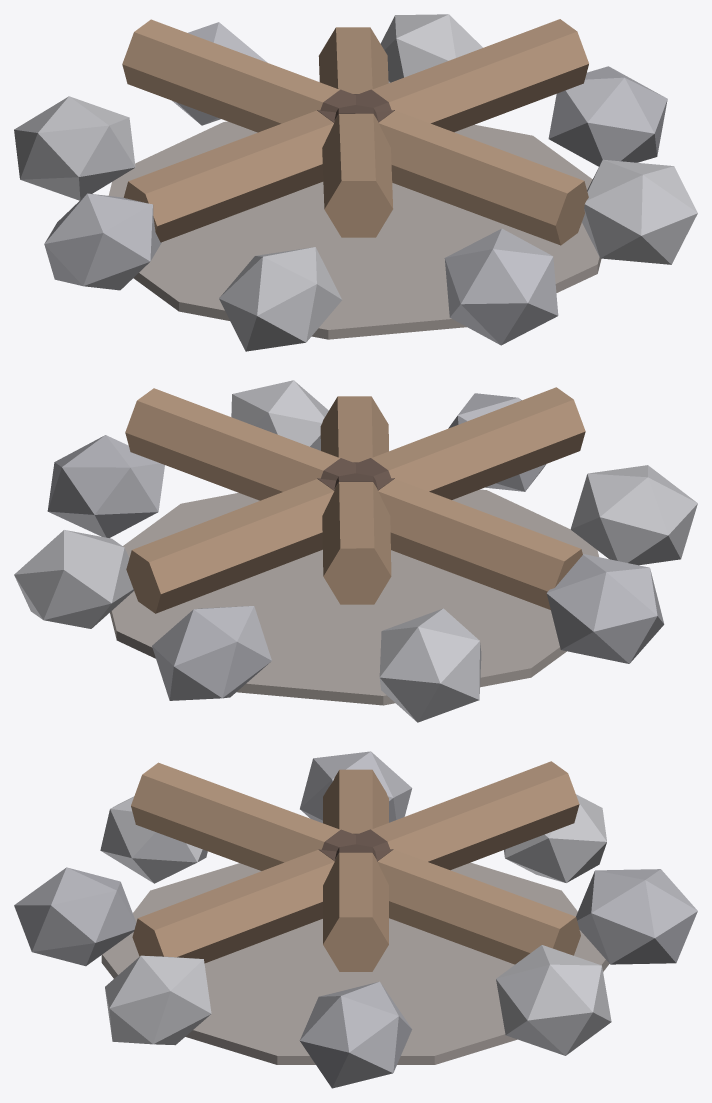
Rendered from Home_Fire.fbx.
3 renders of one model, top to bottom at view 1: azimuth 30°, elevation 25°; view 2: azimuth 150°, elevation 25°; view 3: azimuth 270°, elevation 25°, orthographic. The views are drawn at different scales.
Visible parts, largest first — view 1: Ash, Log1, Log0, Log2, Stone6, Stone7, Stone3, Stone5, Stone0, Stone4, Stone1, Stone2 (+2 smaller); view 2: Ash, Log2, Log0, Log1, Stone4, Stone5, Stone3, Stone2, Stone0, Stone1, Stone7, Stone6 (+2 smaller); view 3: Ash, Log1, Log2, Log0, Stone1, Stone2, Stone6, Stone0, Stone7, Stone3, Stone5, Stone4 (+2 smaller).
Part boxes in pixels (<box>): Ash: <box>108,121,601,339</box>; Log1: <box>122,19,588,245</box>; Log0: <box>123,19,588,242</box>; Log2: <box>318,27,393,237</box>; Stone6: <box>444,228,558,345</box>; Stone7: <box>582,159,697,264</box>; Stone3: <box>14,96,135,200</box>; Stone5: <box>219,247,341,351</box>; Stone0: <box>548,66,667,166</box>; Stone4: <box>44,193,161,290</box>; Stone1: <box>380,14,482,82</box>; Stone2: <box>172,22,266,125</box>; Ash: <box>110,489,598,705</box>; Log2: <box>126,387,585,613</box>; Log0: <box>125,388,582,609</box>; Log1: <box>320,396,391,604</box>; Stone4: <box>546,554,664,663</box>; Stone5: <box>570,465,697,565</box>; Stone3: <box>379,608,481,722</box>; Stone2: <box>152,606,271,700</box>; Stone0: <box>47,435,164,538</box>; Stone1: <box>14,530,133,628</box>; Stone7: <box>231,380,328,450</box>; Stone6: <box>448,393,546,491</box>; Ash: <box>101,862,609,1064</box>; Log1: <box>132,761,579,963</box>; Log2: <box>131,762,580,964</box>; Log0: <box>323,769,388,971</box>; Stone1: <box>496,945,611,1055</box>; Stone2: <box>576,869,697,964</box>; Stone6: <box>14,867,136,966</box>; Stone0: <box>299,981,412,1088</box>; Stone7: <box>105,955,211,1045</box>; Stone3: <box>504,794,606,882</box>; Stone5: <box>100,796,207,883</box>; Stone4: <box>300,751,412,822</box>.
Size of the model in its own units: 1.34 by 0.3154 by 1.34.
